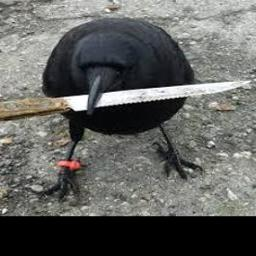Crow: (36, 17, 205, 200)
